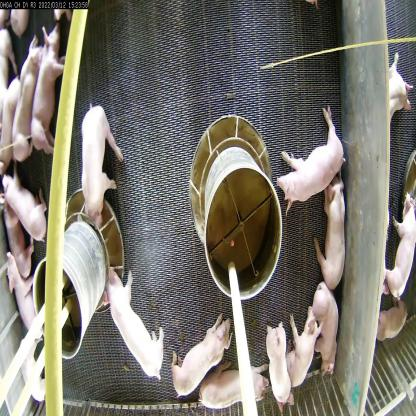Pig: (102, 258, 168, 382), (271, 103, 346, 208), (166, 310, 233, 404), (78, 98, 120, 230), (29, 20, 69, 156), (0, 157, 54, 245), (316, 179, 352, 291), (305, 276, 342, 381), (199, 361, 271, 411), (263, 319, 298, 413), (285, 305, 324, 388), (6, 250, 38, 350)
